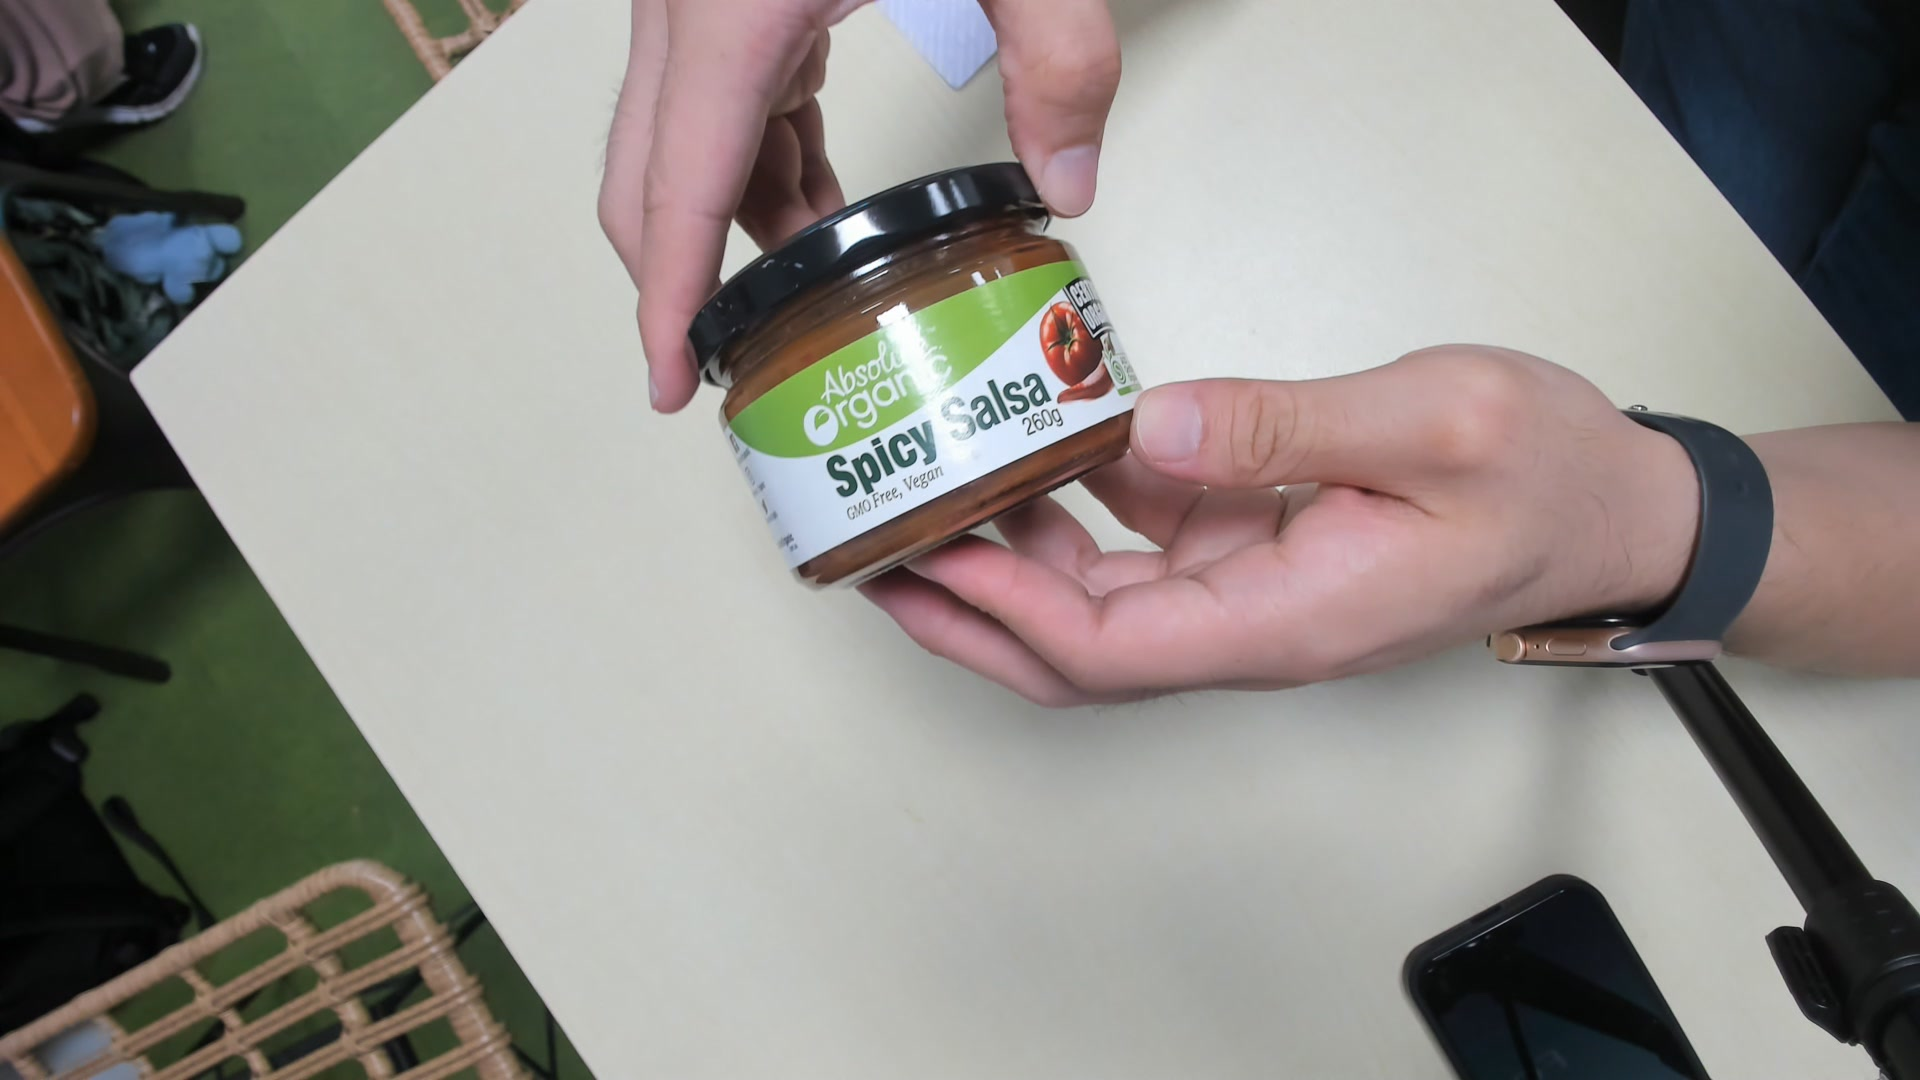OtherSauceDressing_200-299g_NonHalal_NonHealthy: (684, 164, 1135, 596)
